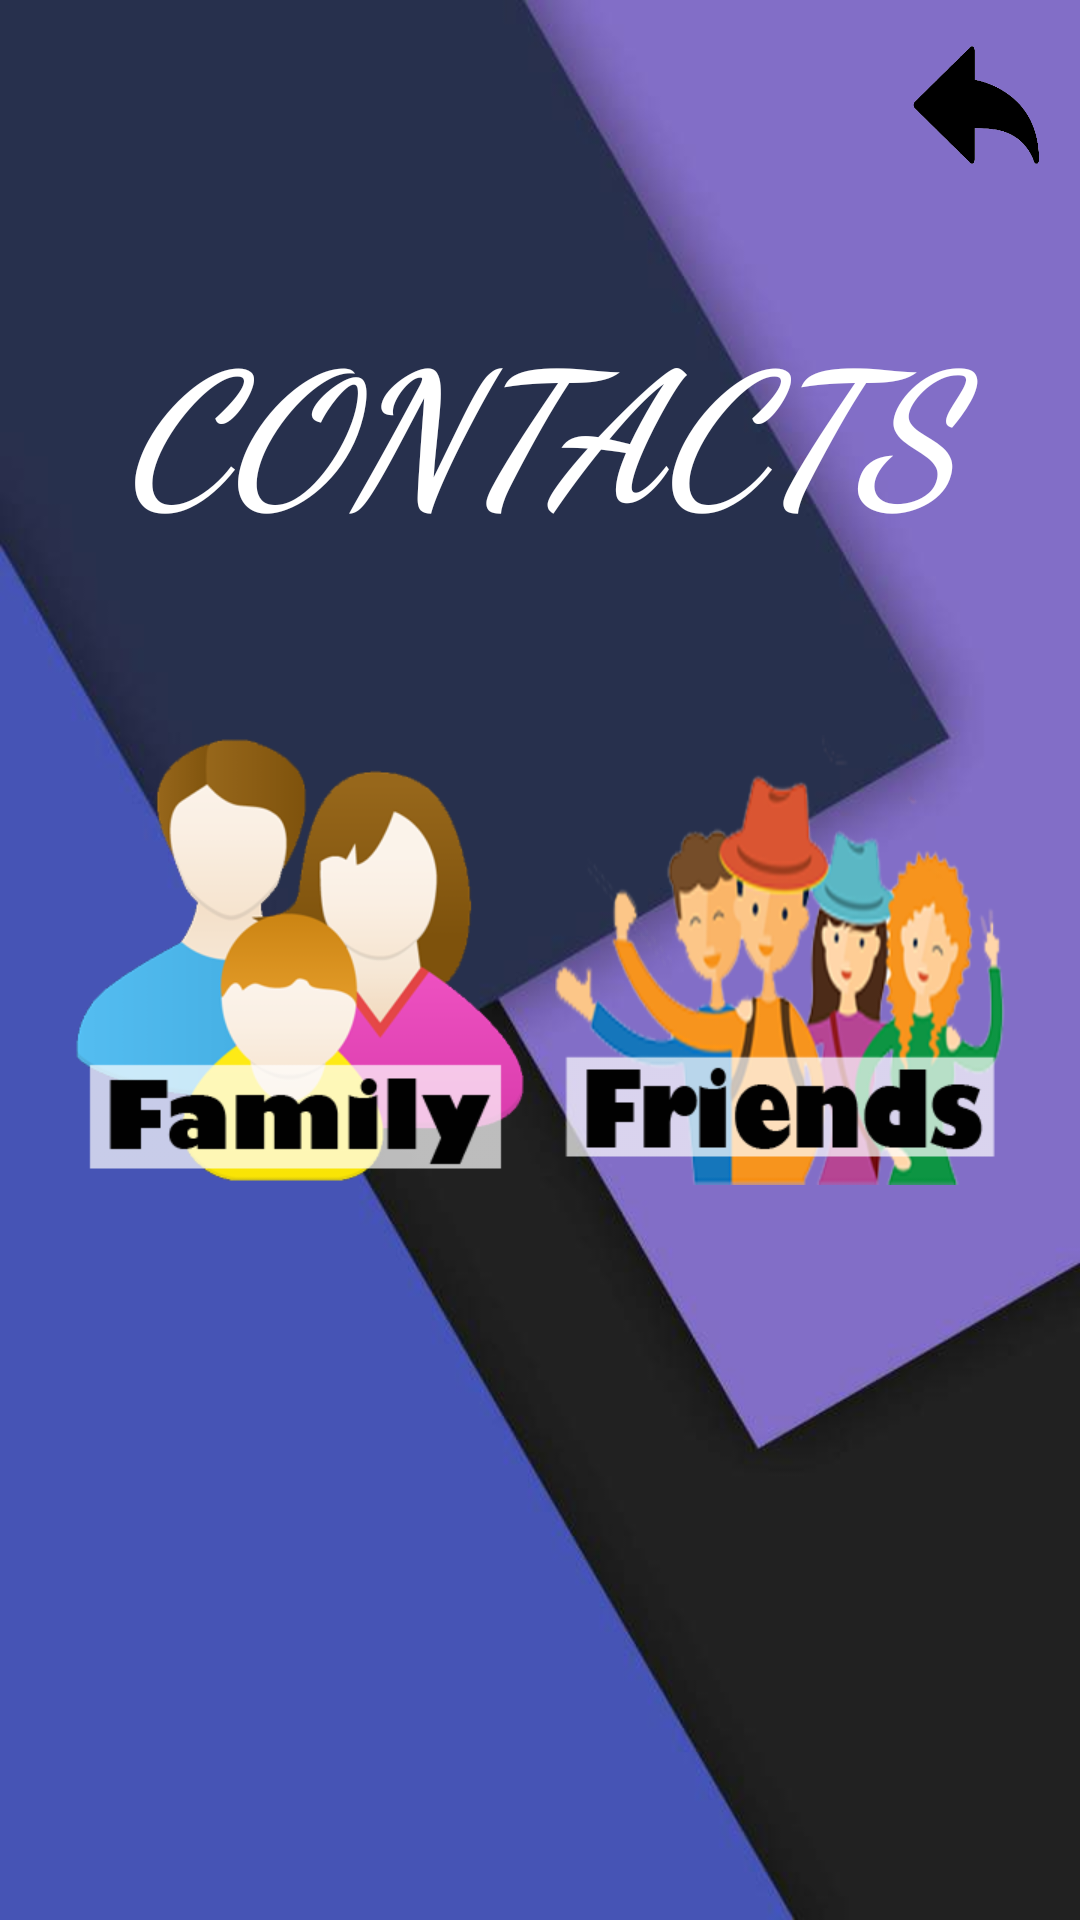

Icon click points for this 1080×1920 phone screenshot, format (x,y):
back arrow: (976,105)
